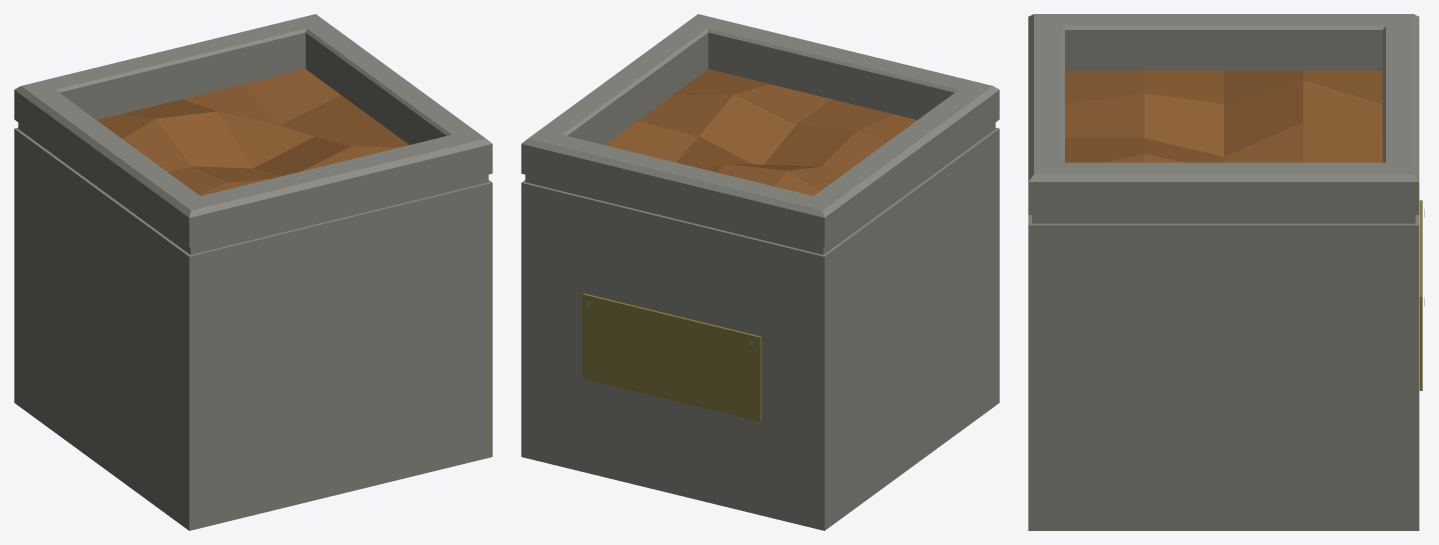
File: Pots_type_4.fbx
3 renders of one model, left to right at view 1: azimuth 30°, elevation 25°; view 2: azimuth 150°, elevation 25°; view 3: azimuth 270°, elevation 25°, orthographic. The views are drawn at different scales.
Parts seen in each view (by area): view 1: Box_type_4; view 2: Box_type_4; view 3: Box_type_4.
Part boxes in pixels (bbox=[...]): Box_type_4: bbox=[14, 14, 492, 530]; Box_type_4: bbox=[521, 14, 999, 530]; Box_type_4: bbox=[1028, 14, 1424, 530].
Bounding box in the file's own units: 63.02 × 63.02 × 63.88.
